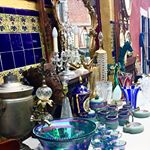other: (1, 79, 38, 140), (121, 82, 143, 137)
